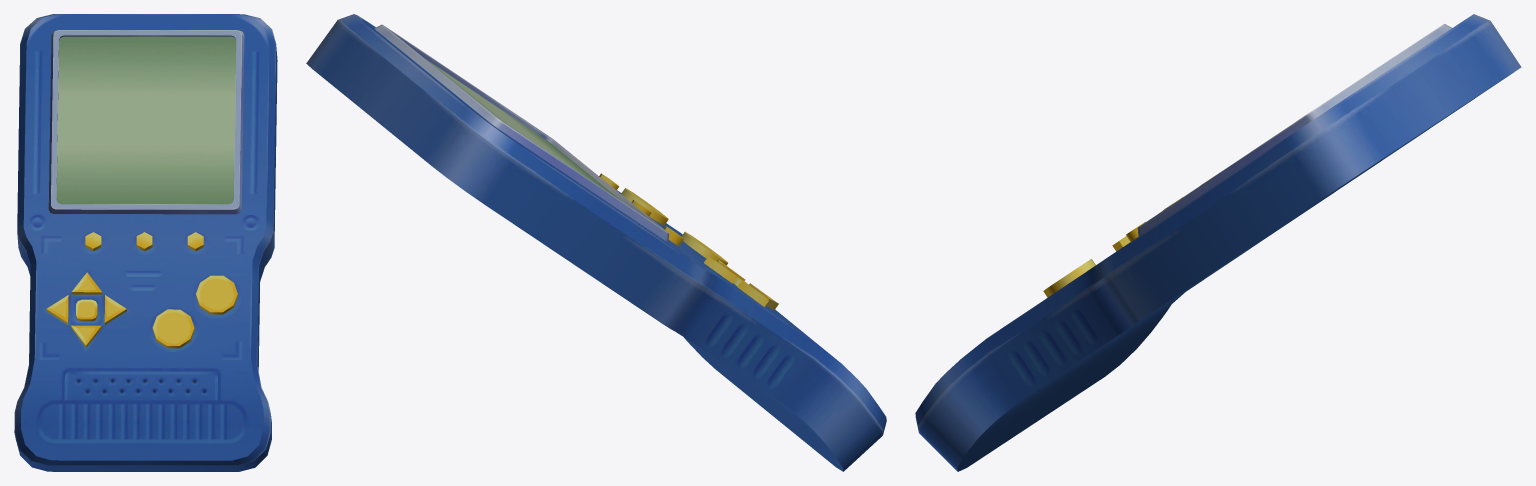
File: handheld_console.glb
3 views of the same model, side by side, from view 1: azimuth 30°, elevation 25°; view 2: azimuth 150°, elevation 25°; view 3: azimuth 270°, elevation 25° (orthographic). The views are drawn at different scales.
Visible parts, largest first — view 1: Tetris.001_13; view 2: Tetris.001_13; view 3: Tetris.001_13.
Part boxes in pixels (x1,y1,x2,y2): Tetris.001_13: (14,14,277,471); Tetris.001_13: (306,14,886,471); Tetris.001_13: (915,14,1521,471).
Size of the model in its own units: 15.42 by 14.21 by 17.14.
Materials: 1 (1 with a texture image).
